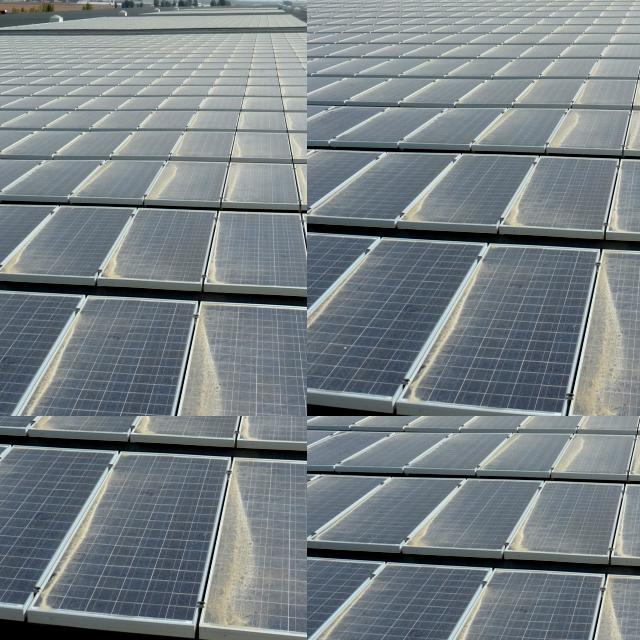bird: (109, 42, 153, 121), (57, 62, 92, 132), (128, 190, 154, 272), (0, 0, 42, 48), (16, 112, 46, 158), (89, 321, 101, 402), (60, 0, 91, 30), (107, 0, 135, 23), (27, 0, 50, 14), (82, 0, 114, 7)
crack: (0, 528, 111, 640), (0, 459, 52, 594), (123, 416, 190, 475), (307, 0, 368, 58), (151, 416, 210, 456), (307, 0, 351, 27)
dust: (520, 416, 616, 555), (410, 416, 501, 547), (433, 566, 531, 640), (577, 574, 637, 640)
